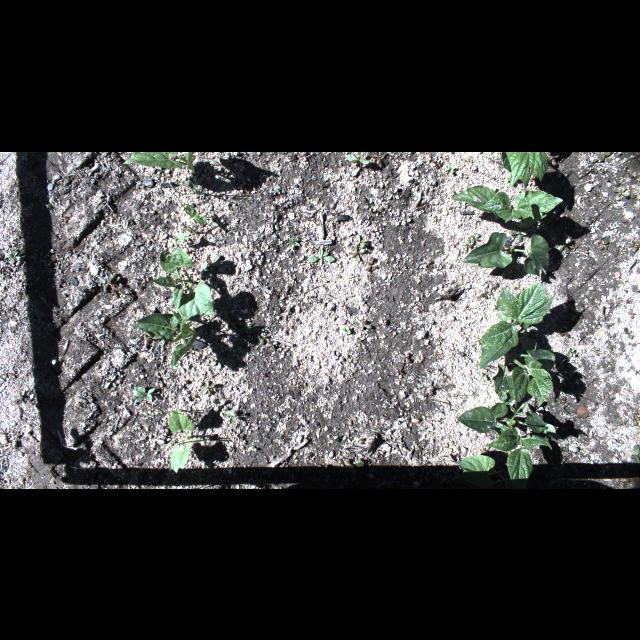crop: (458, 402, 562, 488), (478, 281, 554, 369), (449, 182, 563, 228), (148, 246, 212, 322), (492, 332, 554, 406), (460, 230, 550, 274), (135, 309, 199, 367), (459, 456, 527, 486), (500, 151, 550, 187), (168, 407, 194, 473), (124, 151, 196, 173), (176, 204, 206, 242)
weed: (200, 254, 222, 276), (308, 250, 334, 268), (135, 388, 157, 404), (346, 151, 372, 163), (222, 314, 238, 332), (99, 273, 115, 291), (510, 228, 530, 242), (5, 246, 22, 262), (348, 246, 364, 262), (212, 154, 228, 170), (562, 442, 578, 456), (369, 151, 387, 163), (614, 186, 628, 200), (163, 476, 179, 488), (188, 176, 198, 194), (558, 236, 570, 250), (354, 233, 366, 247), (202, 380, 214, 394), (366, 256, 378, 270), (345, 460, 365, 468), (632, 444, 640, 464), (468, 232, 479, 246), (288, 236, 300, 248), (598, 151, 610, 163), (210, 356, 222, 368), (214, 400, 228, 410), (356, 319, 370, 329), (341, 324, 351, 336), (627, 240, 639, 250), (630, 413, 640, 425), (258, 331, 266, 345), (419, 257, 433, 265), (226, 412, 237, 422), (598, 237, 608, 247), (479, 372, 487, 382), (624, 328, 632, 338), (446, 162, 454, 172), (116, 282, 124, 292), (566, 348, 574, 357), (331, 436, 339, 444), (628, 308, 634, 318), (551, 398, 559, 404), (274, 185, 280, 192), (340, 459, 344, 465)
